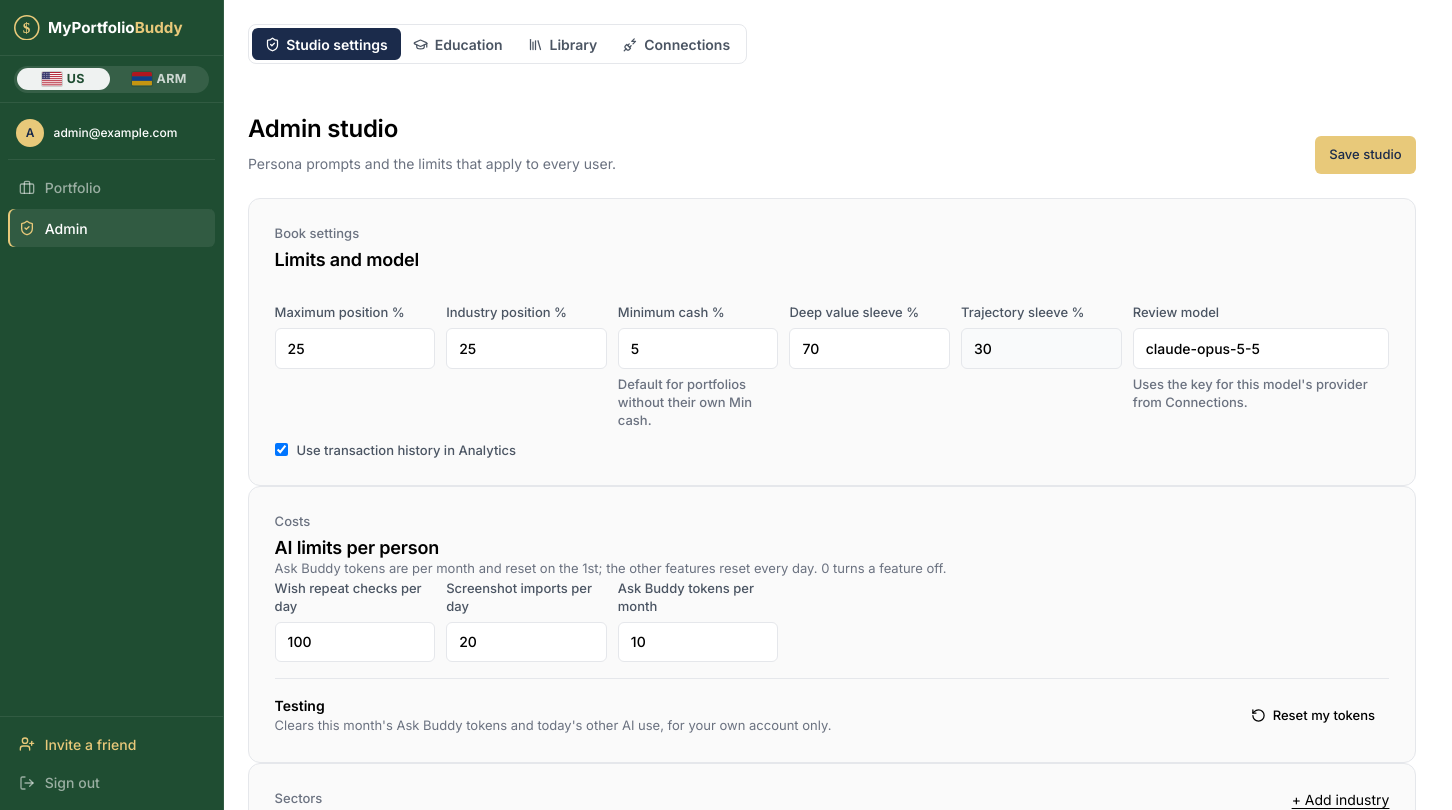
AdminPanel industry catalog › adds and removes named industries without quantity inputs
Click the button "+ Add industry".
click(1340, 800)  # box [1292,789,1389,809]
(page scrolled)
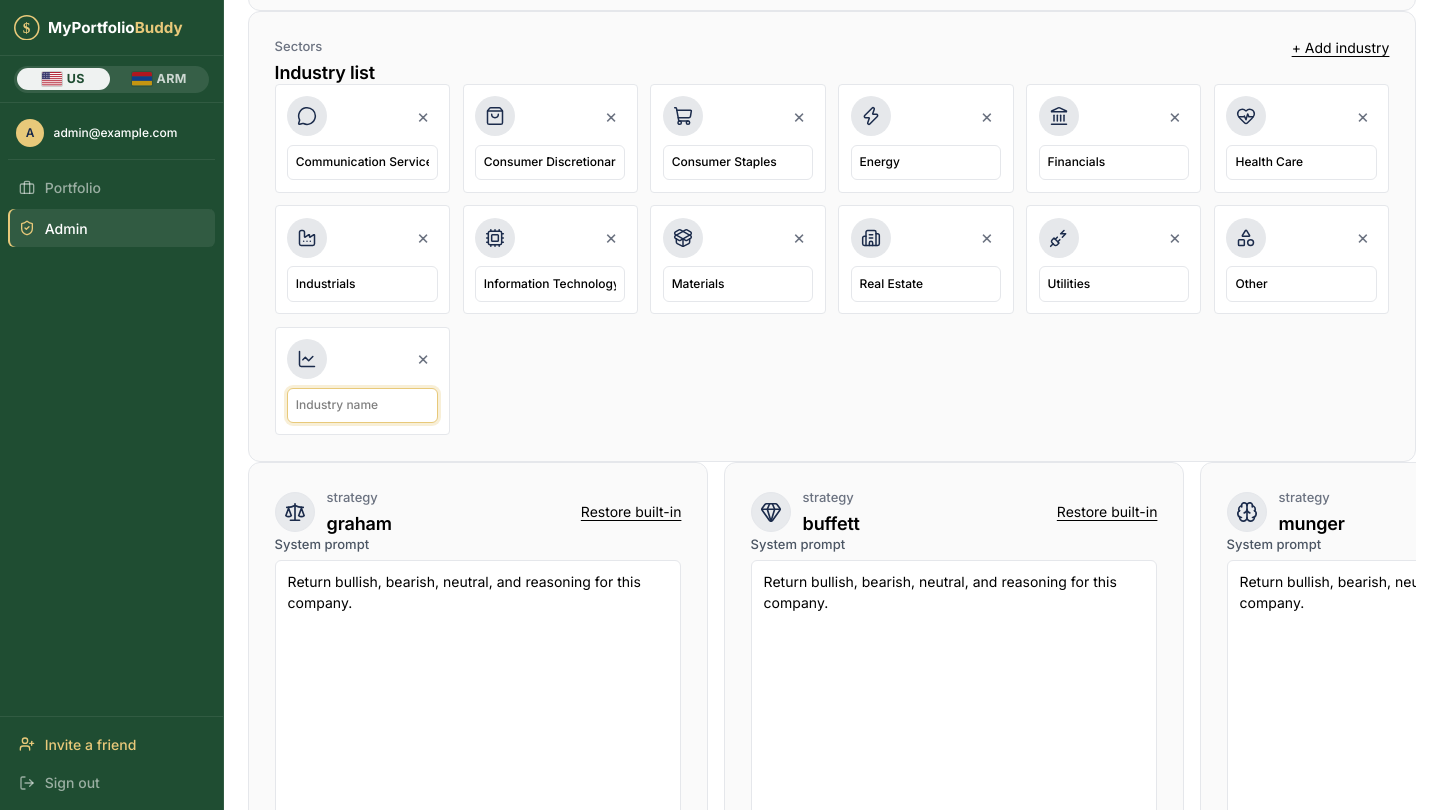
Result: the number of fields named "Industry name 1" is 13
Type "Index/ETF" into the field named "Industry name 13".
click(362, 405); type("Index/ETF")  # box [287,388,438,423]
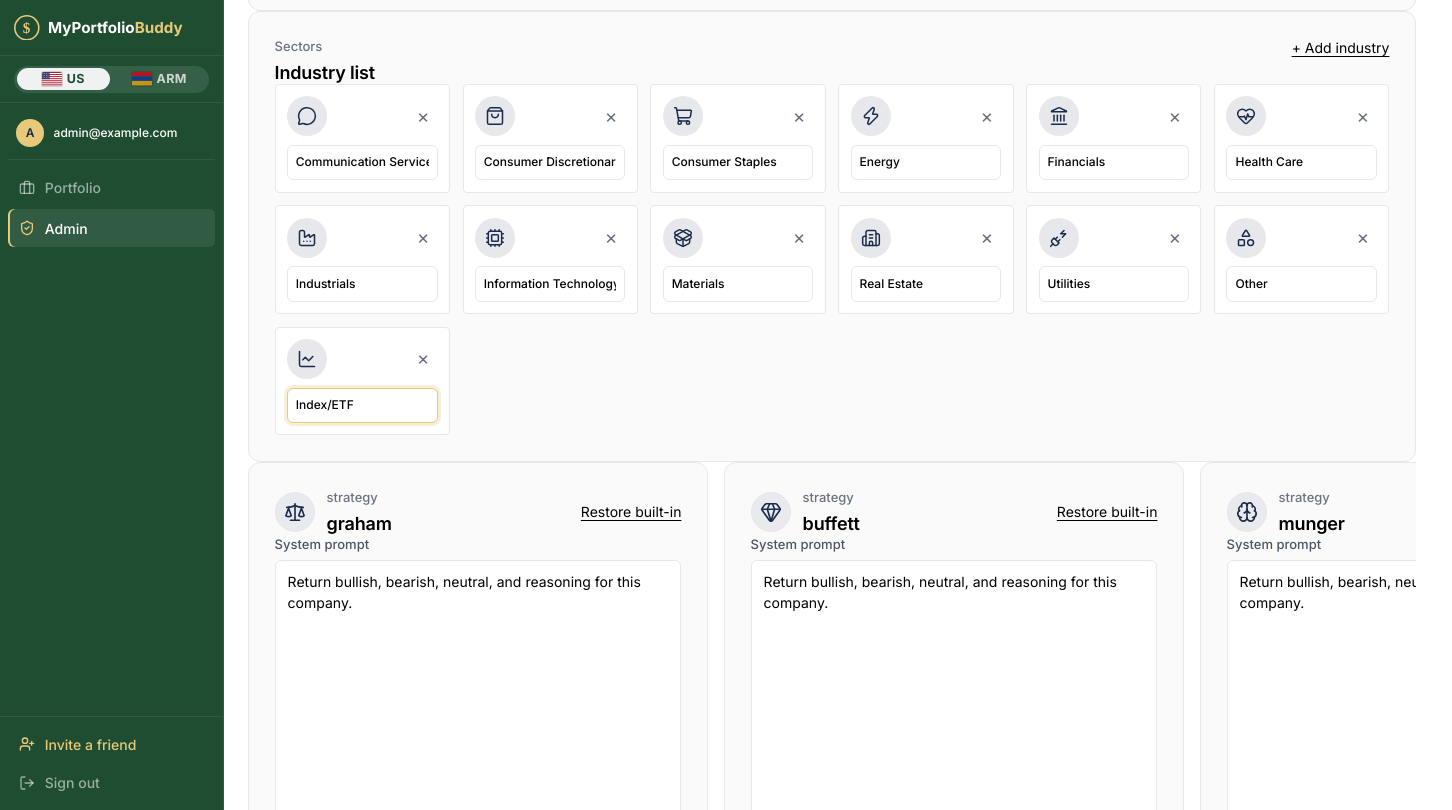
Result: the icon with class "lucide-chart-line" is shown at [297,349,317,369]
Click the button named "Remove Index/ETF".
click(423, 359)  # box [409,344,438,373]
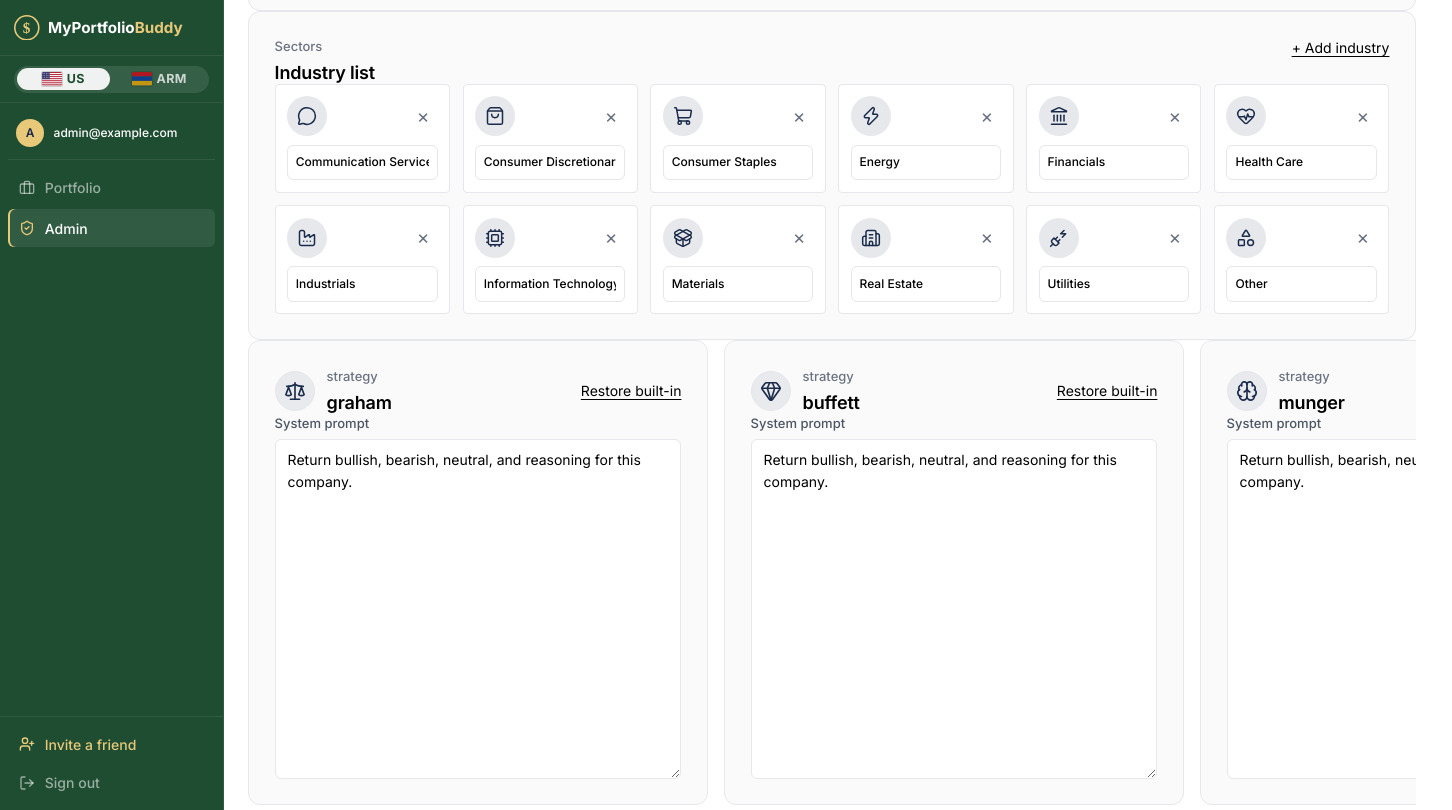
Result: the number of fields named "Industry name 1" is 12
